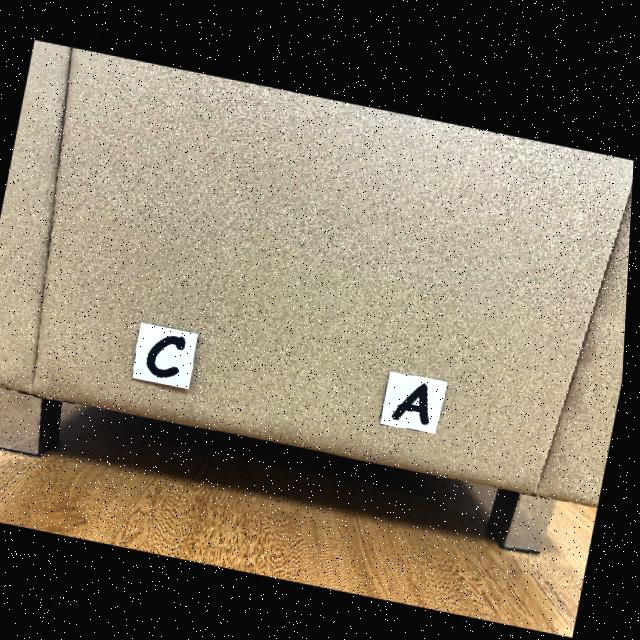A: (396, 378, 434, 419)
C: (150, 334, 189, 375)
